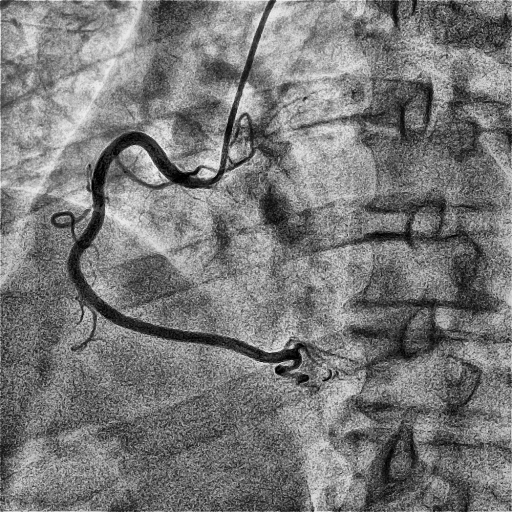pda: (274, 348, 309, 387)
rca: (67, 132, 275, 363)
